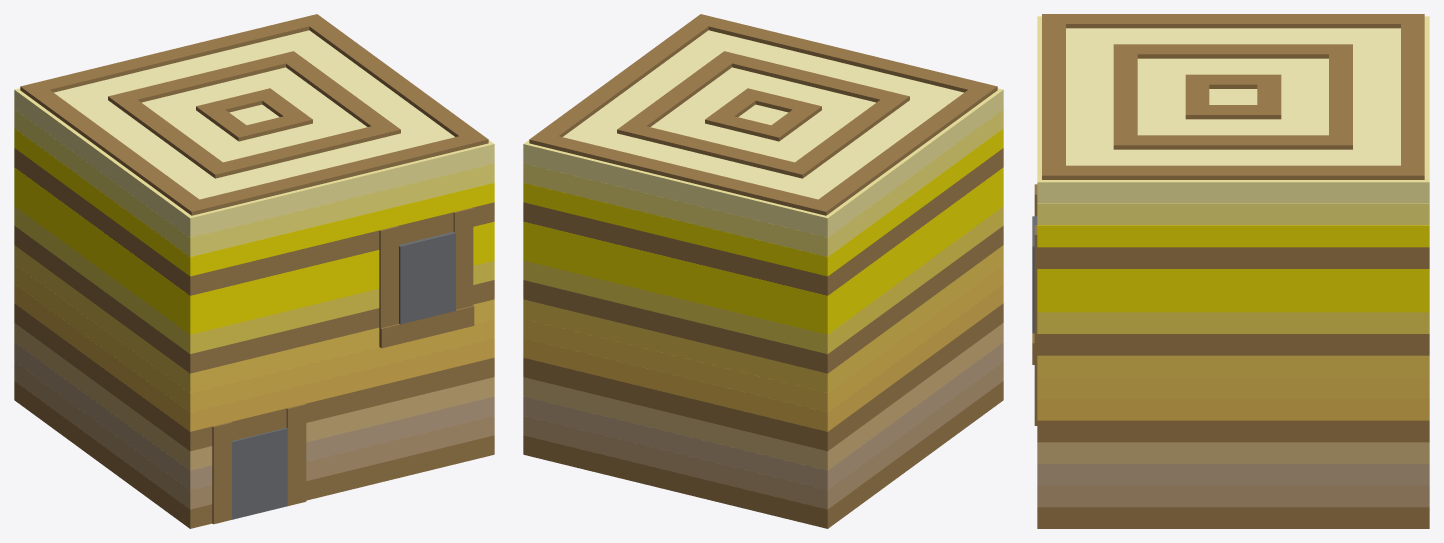
The model's file is beehive.obj.
The picture shows the model from 3 angles, left to right: view 1: azimuth 30°, elevation 25°; view 2: azimuth 150°, elevation 25°; view 3: azimuth 270°, elevation 25°; orthographic projection. The views are drawn at different scales.
Visible parts, largest first — view 1: Object_12, Object_10, Object_7, Object_9, Object_8, Object_3, Object_4, Object_11, Object_14, Object_13, Object_2, Object_6 (+1 smaller); view 2: Object_12, Object_7, Object_10, Object_9, Object_4, Object_8, Object_13, Object_14, Object_3, Object_2, Object_6, Object_5; view 3: Object_12, Object_10, Object_7, Object_9, Object_5, Object_8, Object_13, Object_2, Object_3, Object_4, Object_6, Object_14.
Boxes of the visible parts, x1,y1,x2,y2 form: Object_12: (14, 14, 494, 528); Object_10: (54, 30, 454, 199); Object_7: (14, 128, 494, 334); Object_9: (14, 88, 494, 237); Object_8: (14, 109, 494, 256); Object_3: (14, 284, 494, 431); Object_4: (14, 264, 494, 412); Object_11: (232, 231, 455, 519); Object_14: (14, 342, 494, 489); Object_13: (14, 361, 494, 509); Object_2: (14, 323, 494, 470); Object_6: (14, 206, 494, 353); Object_12: (523, 14, 1003, 528); Object_7: (523, 128, 1003, 334); Object_10: (563, 30, 963, 199); Object_9: (523, 88, 1003, 237); Object_4: (523, 264, 1003, 412); Object_8: (523, 109, 1003, 256); Object_13: (523, 361, 1003, 509); Object_14: (523, 342, 1003, 489); Object_3: (523, 284, 1003, 431); Object_2: (523, 323, 1003, 470); Object_6: (523, 206, 1003, 353); Object_5: (523, 245, 1003, 392); Object_12: (1032, 14, 1429, 528); Object_10: (1066, 28, 1400, 165); Object_7: (1037, 225, 1429, 312); Object_9: (1037, 16, 1429, 203); Object_5: (1037, 355, 1429, 377); Object_8: (1037, 203, 1429, 225); Object_13: (1037, 485, 1429, 507); Object_2: (1037, 442, 1429, 463); Object_3: (1037, 399, 1429, 420); Object_4: (1037, 377, 1429, 398); Object_6: (1037, 312, 1429, 333); Object_14: (1037, 464, 1429, 485).
Bounding box in the file's own units: 82000 × 81050 × 83000.
